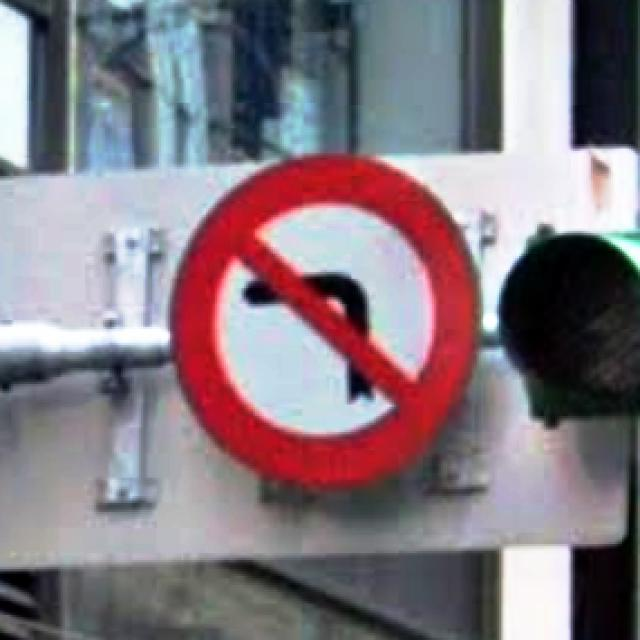noturnleft: (166, 148, 481, 492)
